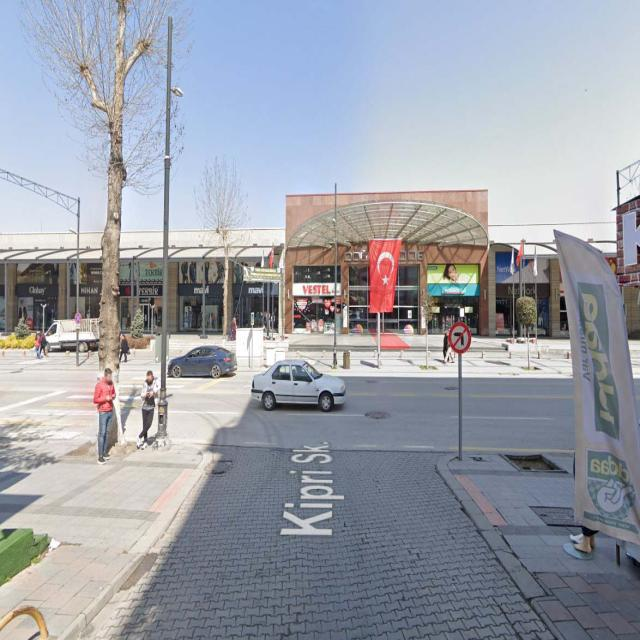soladonulmez: (448, 322, 471, 352)
